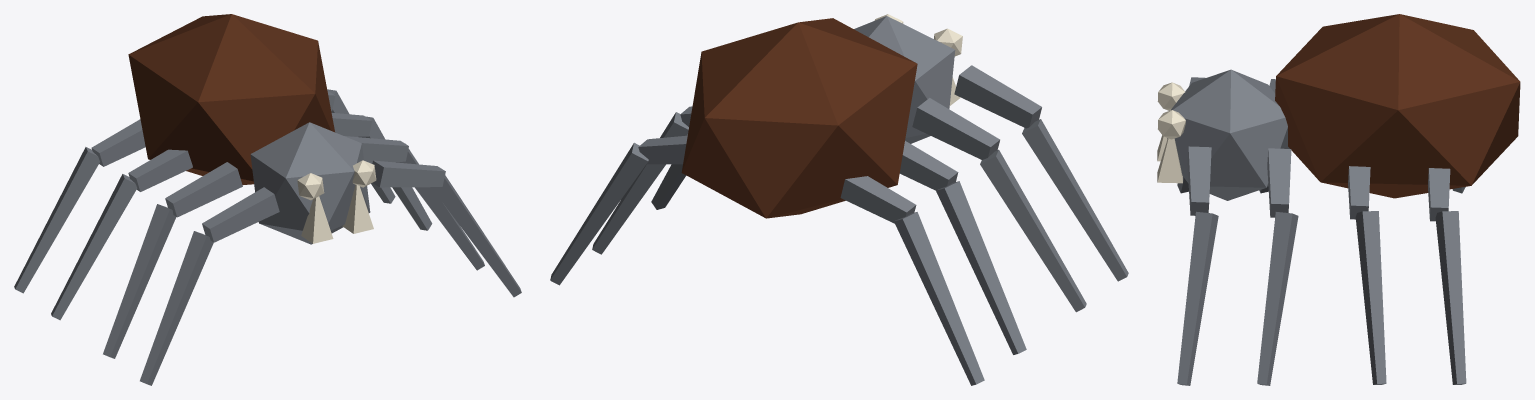
The model's file is npcpose_spider_attack_01.glb.
3 views of the same model, side by side, from view 1: azimuth 30°, elevation 25°; view 2: azimuth 150°, elevation 25°; view 3: azimuth 270°, elevation 25° (orthographic). The views are drawn at different scales.
Parts seen in each view (by area): view 1: npcpose; view 2: npcpose; view 3: npcpose.
Boxes of the visible parts, x1=… form: npcpose: x1=14, y1=14, x2=521, y2=385; npcpose: x1=550, y1=14, x2=1128, y2=385; npcpose: x1=1157, y1=14, x2=1520, y2=385.
Size of the model in its own units: 1.31 by 0.8368 by 1.
